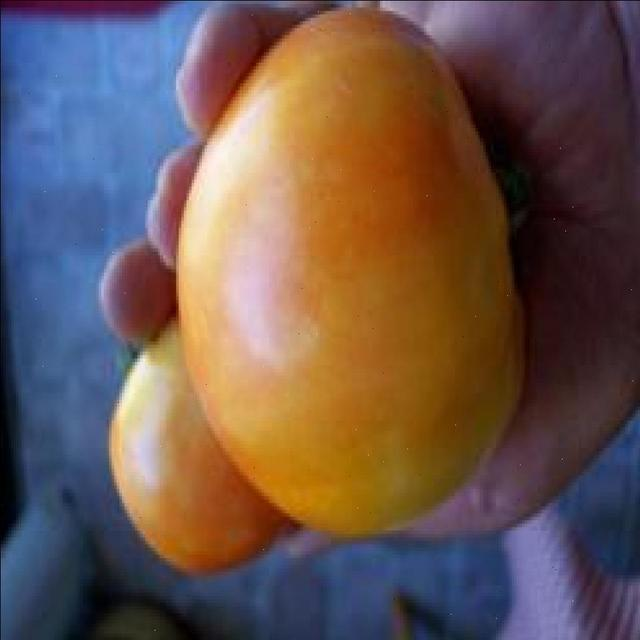Spotted wilt Virus Fruit: (72, 30, 175, 351)
